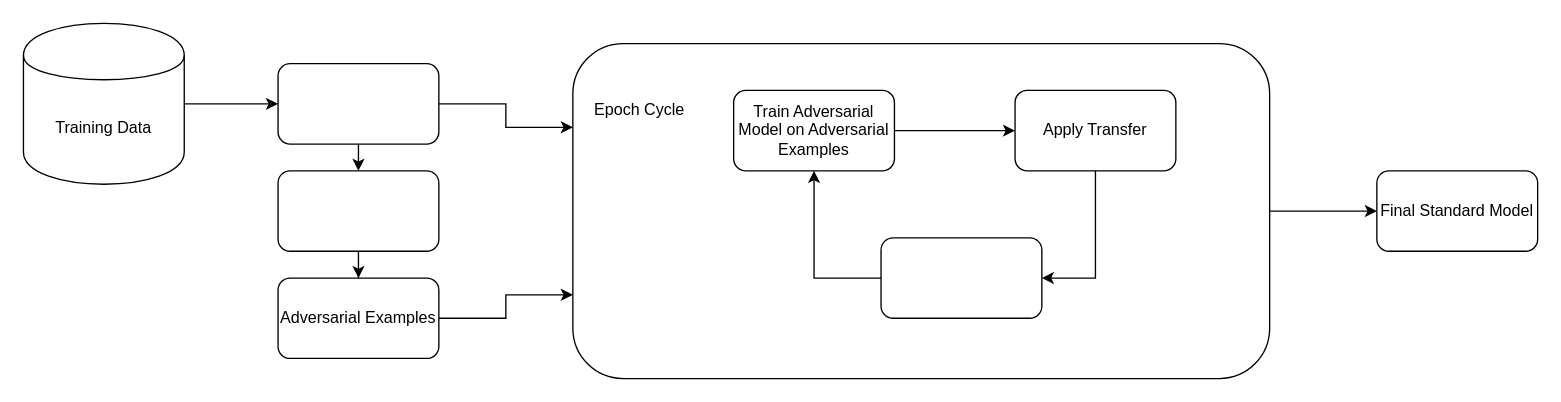
Some shapes in this 1561 by 402 pixel diagram are drawn without their labels. The shapes that lost their labels are listed below. From the top down, each one's centre as x and y in pixels, then its label:
[358,103]: Initial Standard Model
[358,210]: Adversarial Attacks
[961,277]: Train Standard Model on Training Data
